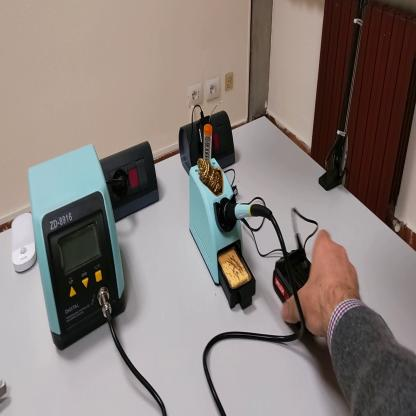electric screwdriver battery: (273, 248, 314, 339)
hand: (280, 229, 361, 338)
socket: (102, 140, 164, 228), (176, 115, 237, 173)
welder base: (187, 117, 257, 311)
welder probe tip: (222, 195, 273, 228)
welder station: (27, 135, 129, 352)
